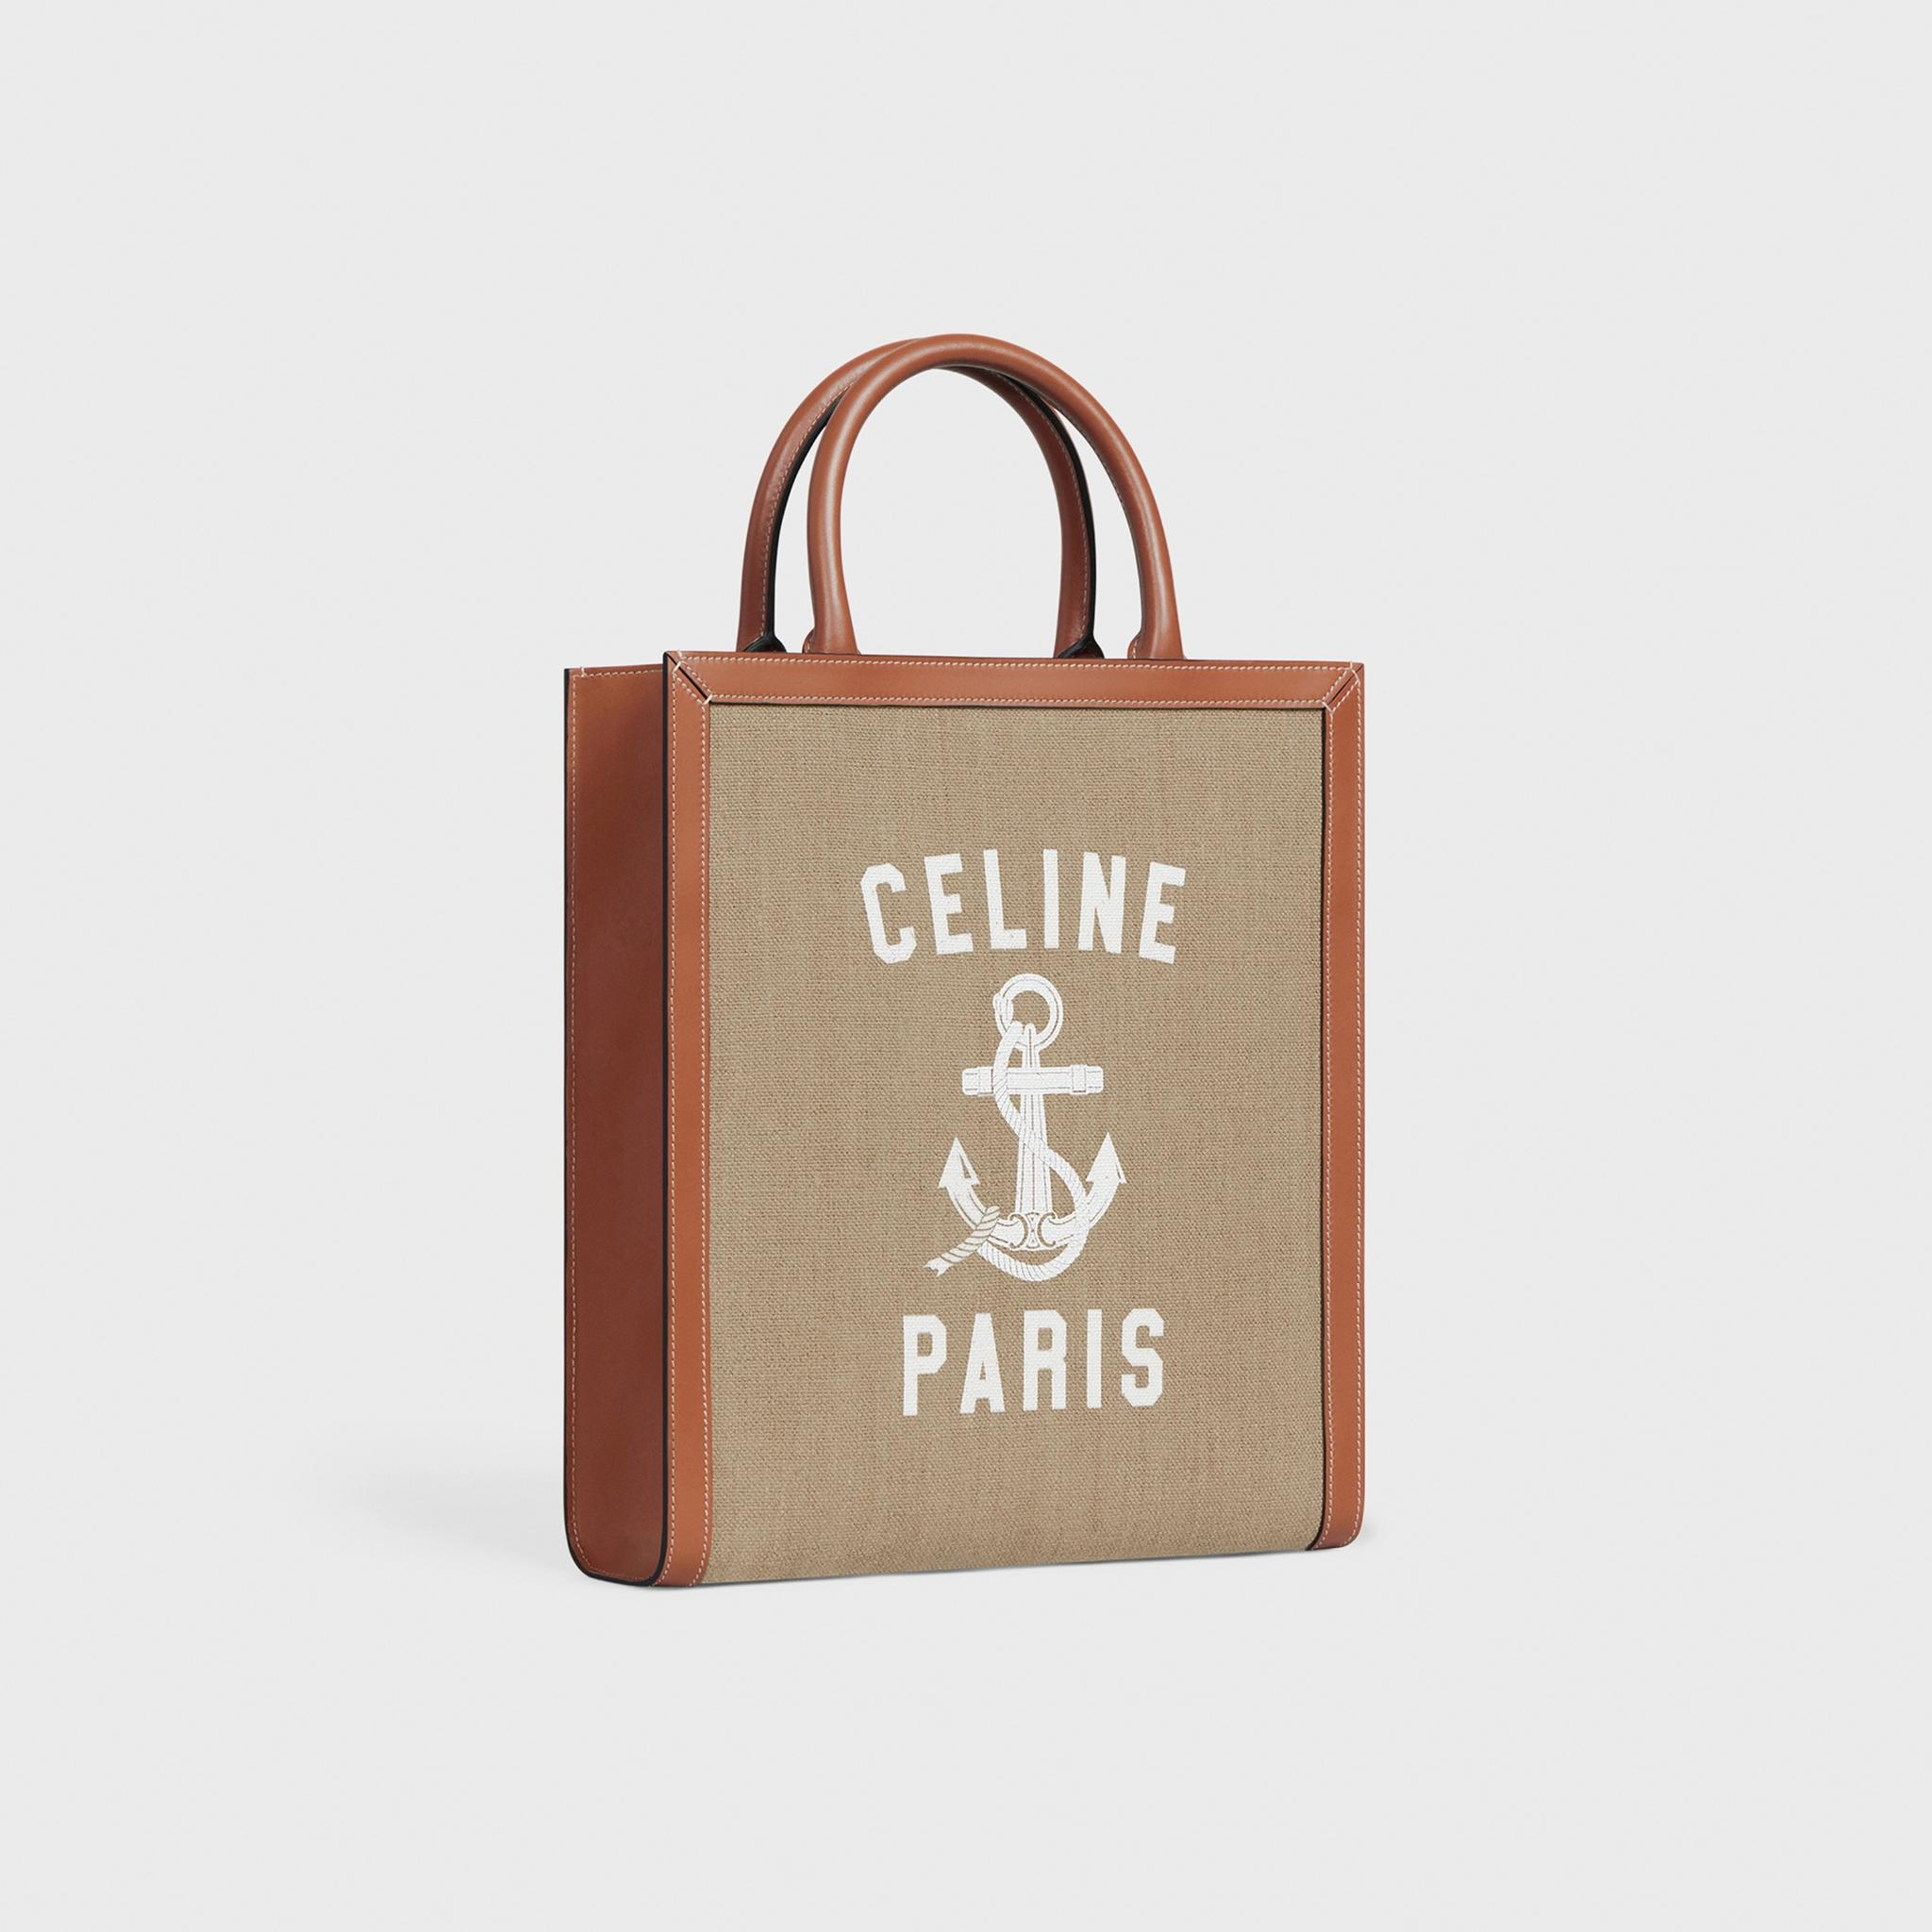CELINE: (860, 849, 1185, 971)
